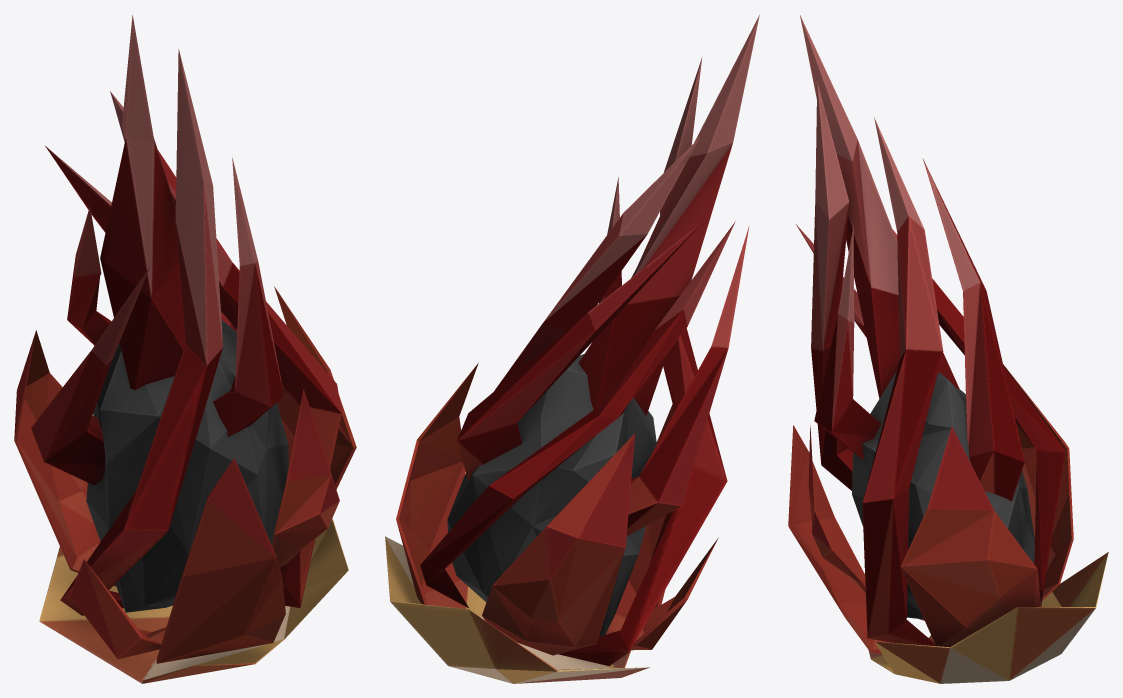
Rendered from Comet.obj.
The picture shows the model from 3 angles, left to right: view 1: azimuth 30°, elevation 25°; view 2: azimuth 150°, elevation 25°; view 3: azimuth 270°, elevation 25°; orthographic projection. The views are drawn at different scales.
Size of the model in its own units: 9.83 by 22.12 by 10.73.
Materials: 1 (1 with a texture image).
